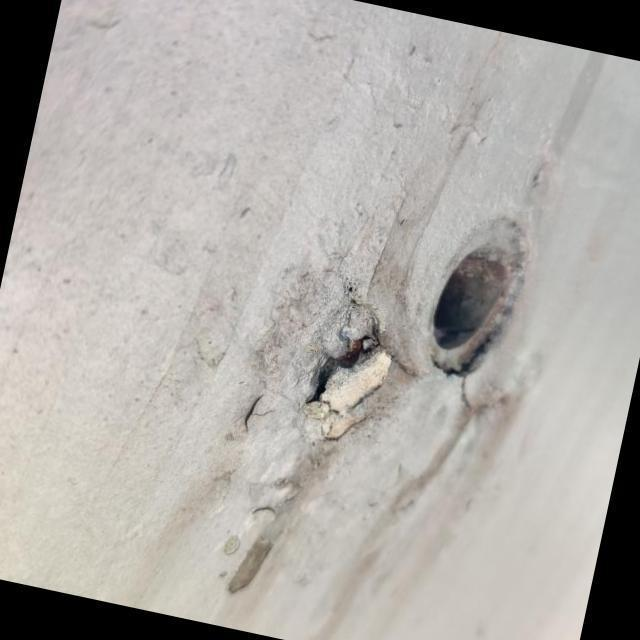Rupture: (258, 274, 442, 476)
